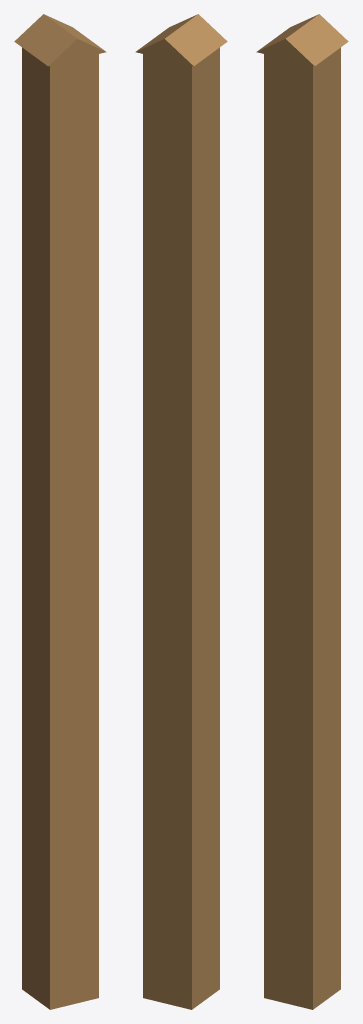
Rendered from boundary.post.timber_1800.glb.
3 renders of one model, left to right at view 1: azimuth 30°, elevation 25°; view 2: azimuth 150°, elevation 25°; view 3: azimuth 330°, elevation 25°, orthographic.
Parts seen in each view (by area): view 1: main__softwood; view 2: main__softwood; view 3: main__softwood.
Part boxes in pixels (x1,y1,x2,y2): main__softwood: (14,14,106,1009); main__softwood: (135,14,227,1009); main__softwood: (256,14,348,1009).
Bounding box in the file's own units: 0.12 × 1.89 × 0.12.
